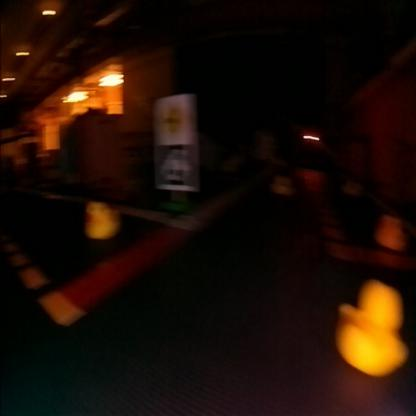Duckie: (336, 281, 406, 375), (86, 200, 120, 236), (379, 215, 407, 249), (274, 174, 292, 195)
Intersection sign: (158, 96, 191, 142)
QR code: (156, 143, 195, 189)
